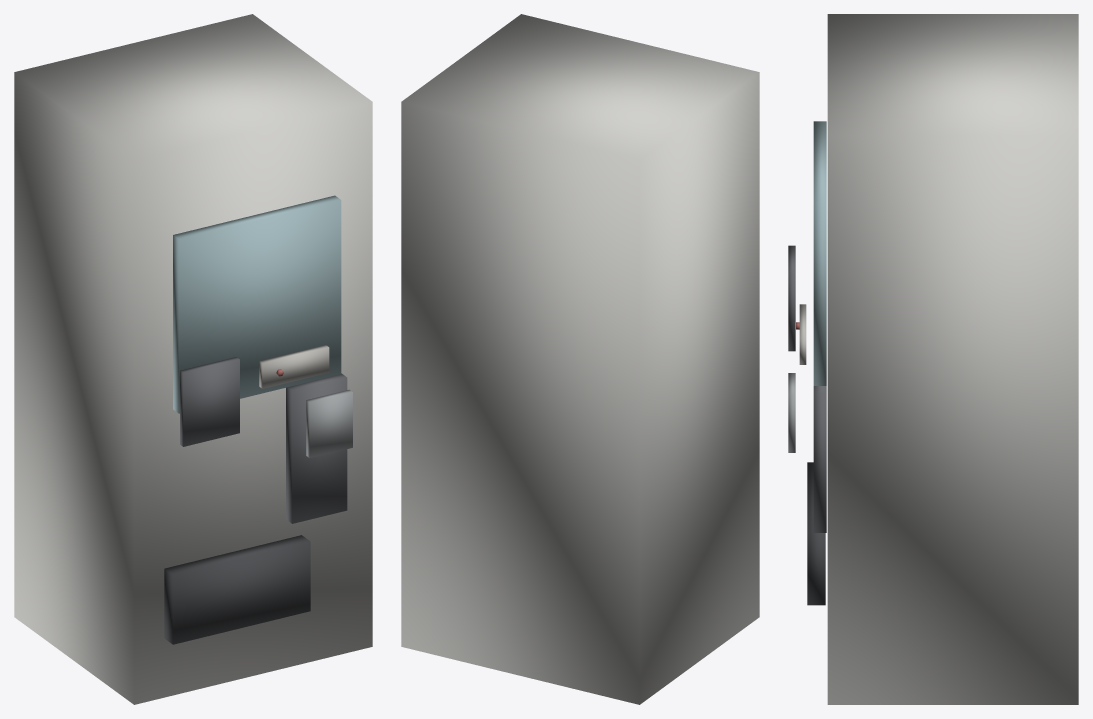
The model's file is motel_ice_machine__weathered.glb.
The picture shows the model from 3 angles, left to right: view 1: azimuth 30°, elevation 25°; view 2: azimuth 150°, elevation 25°; view 3: azimuth 270°, elevation 25°; orthographic projection. The views are drawn at different scales.
Parts seen in each view (by area): view 1: world; view 2: world; view 3: world.
Boxes of the visible parts, <box> form: world: <box>14,14,372,704</box>; world: <box>401,14,759,704</box>; world: <box>788,14,1078,704</box>.
Size of the model in its own units: 0.78 by 1.7 by 0.7863.
